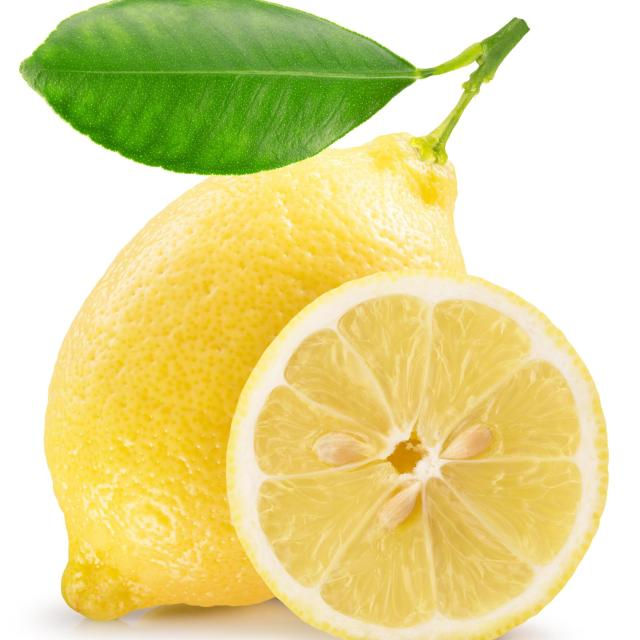lemon: (218, 258, 620, 640)
